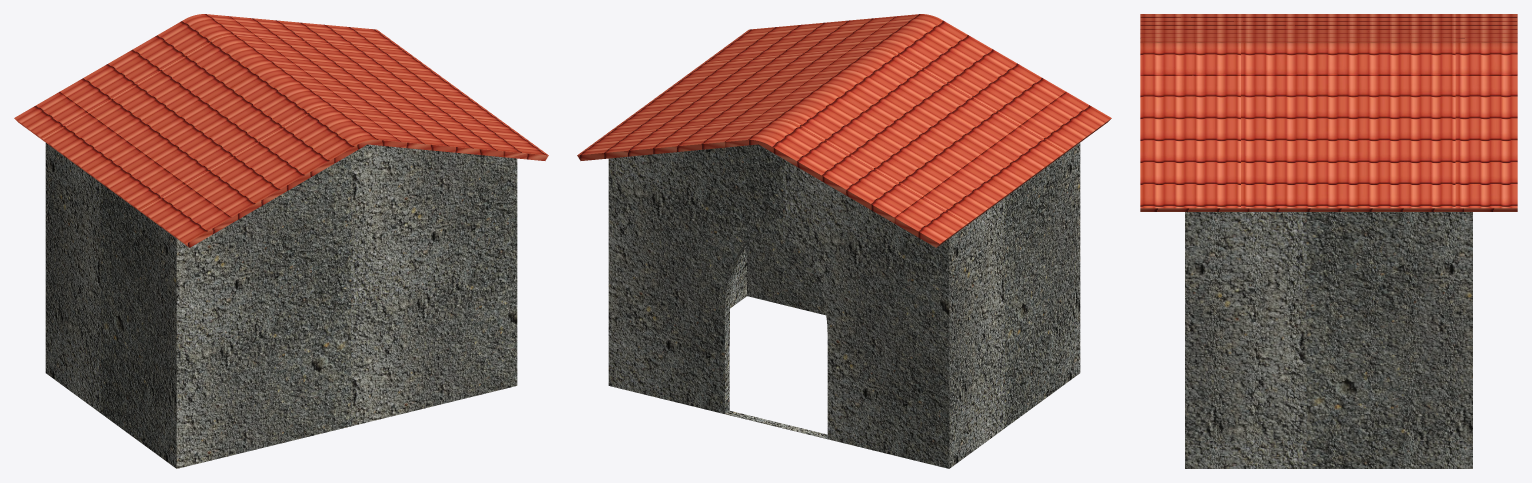
Rendered from fachada.obj.
3 renders of one model, left to right at view 1: azimuth 30°, elevation 25°; view 2: azimuth 150°, elevation 25°; view 3: azimuth 270°, elevation 25°, orthographic. The views are drawn at different scales.
Visible parts, largest first — view 1: Cube, roof; view 2: Cube, roof; view 3: roof, Cube.
Boxes of the visible parts, x1,y1,x2,y2 form: Cube: (45, 143, 517, 468); roof: (14, 14, 548, 247); Cube: (608, 143, 1080, 468); roof: (577, 14, 1111, 247); roof: (1140, 14, 1517, 211); Cube: (1185, 212, 1472, 468).
Size of the model in its own units: 3.19 by 2.53 by 2.62.
2 materials, 2 textured.
